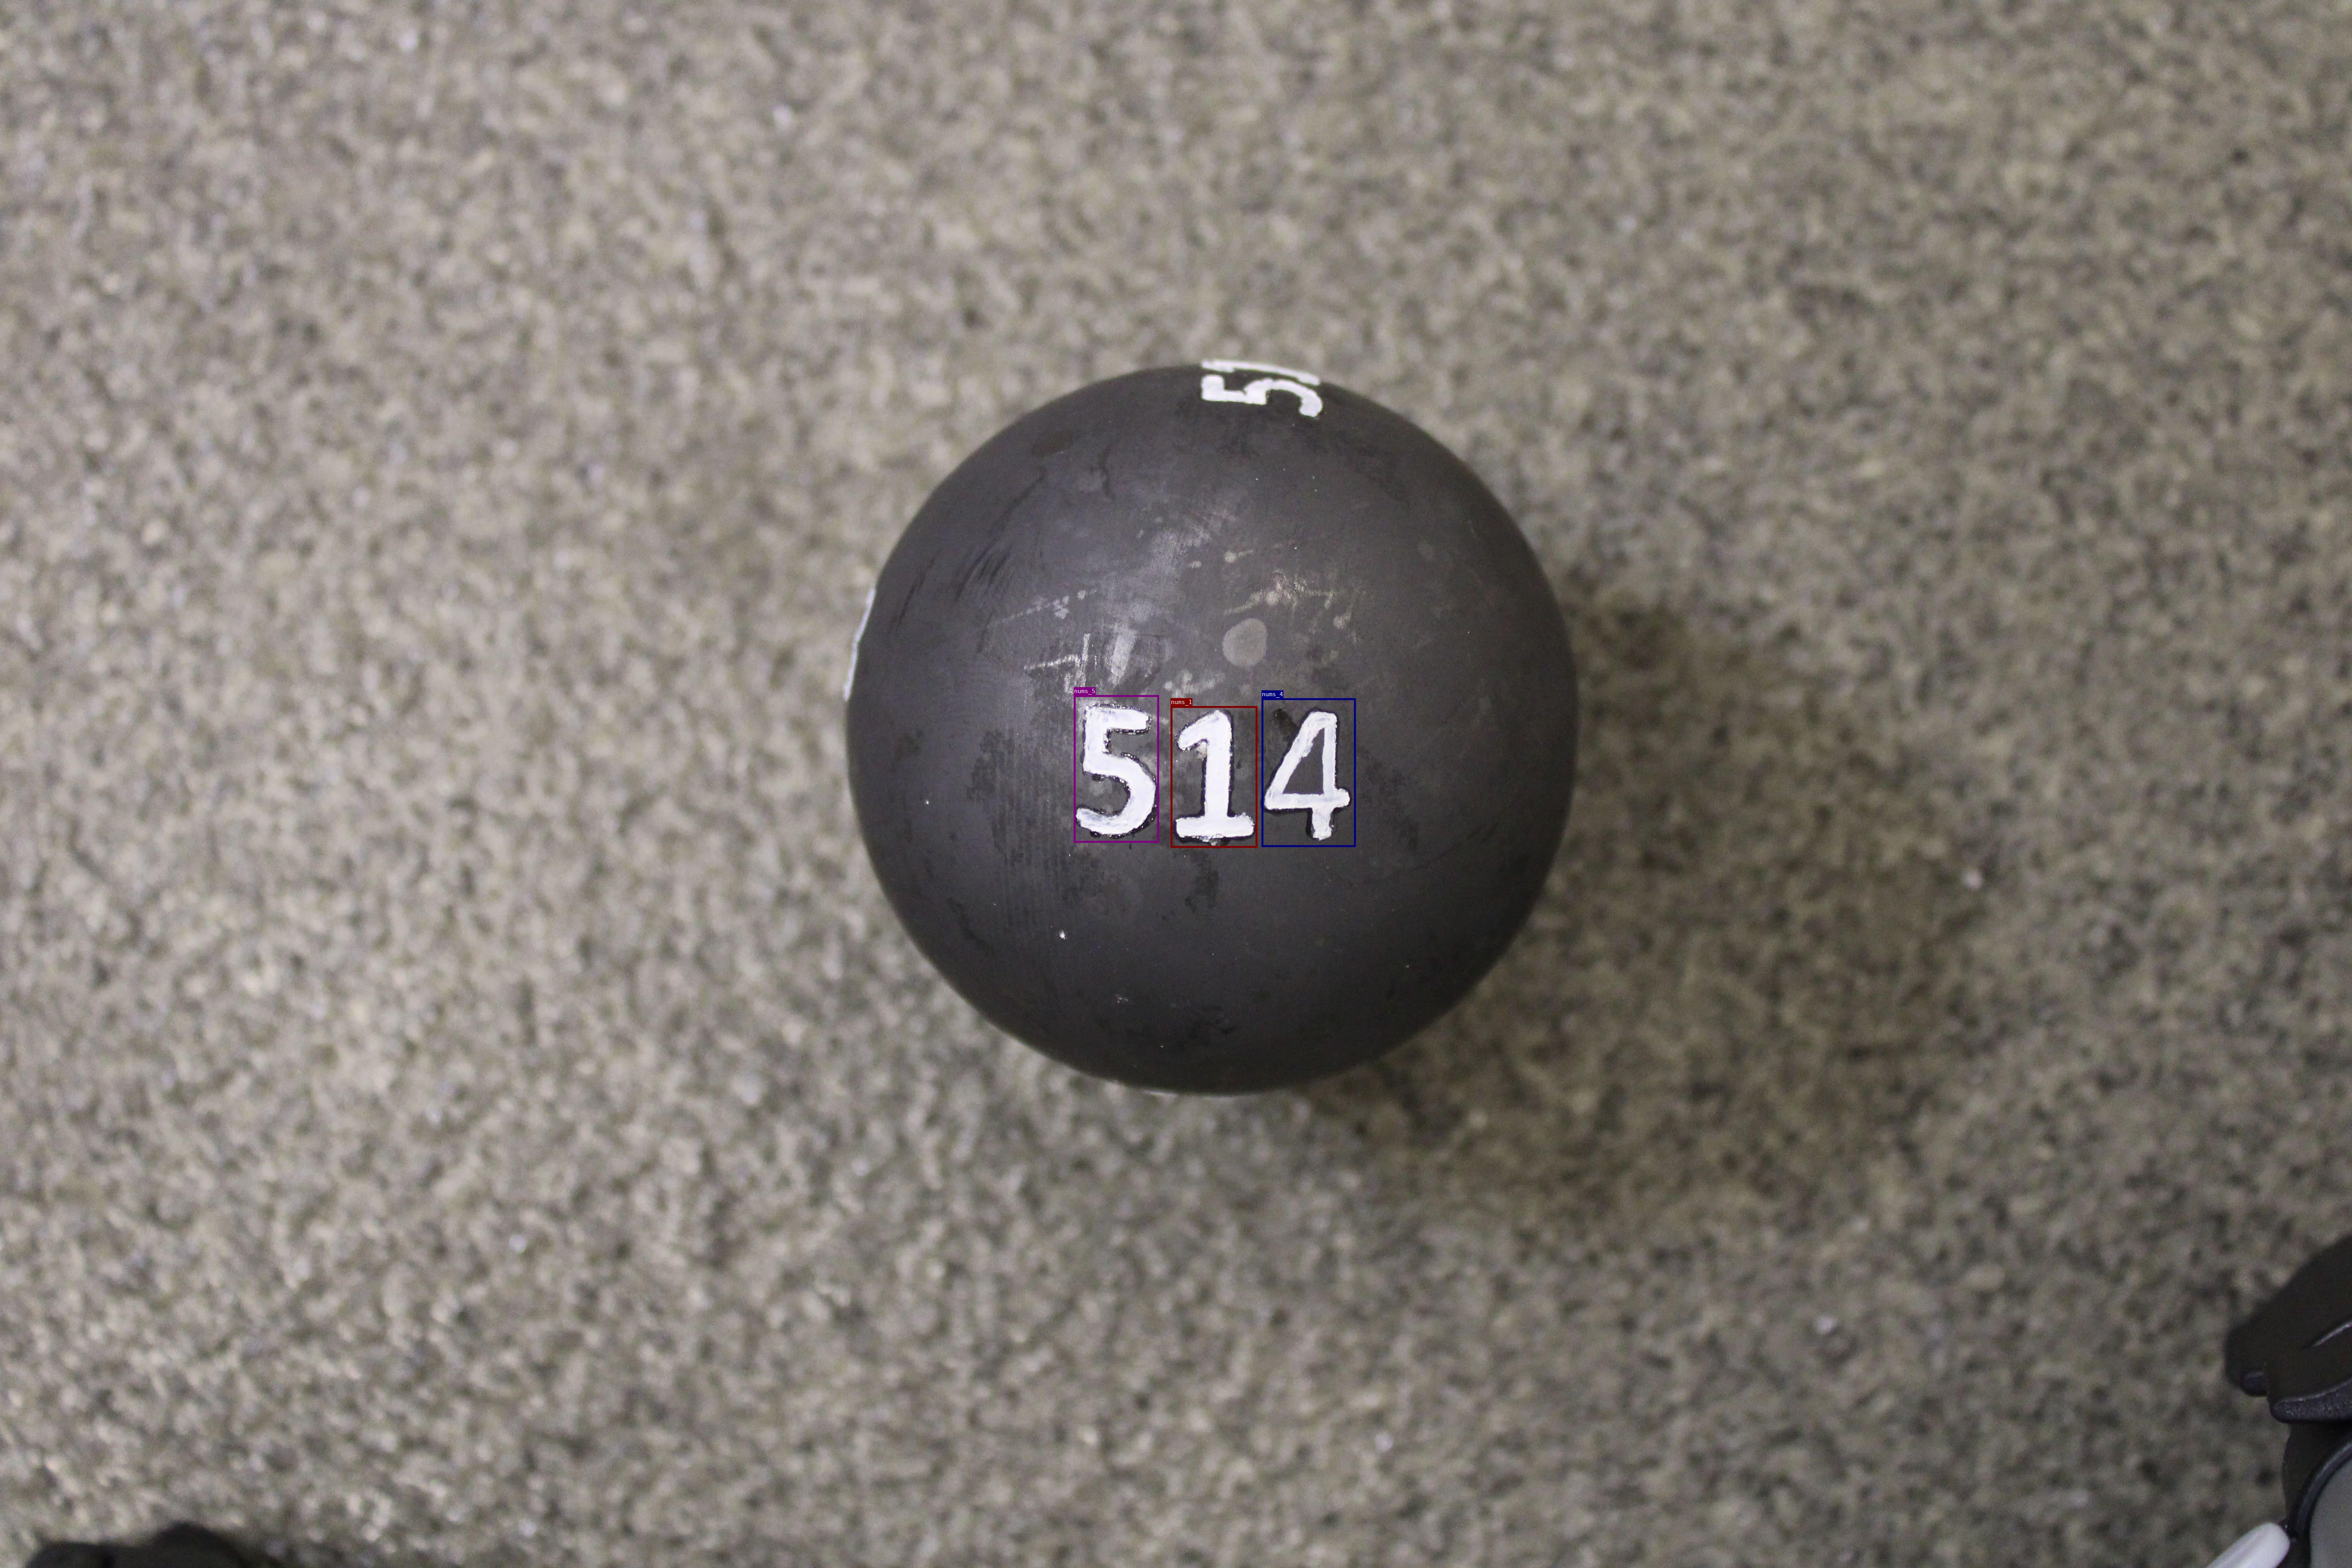nums_1: (1171, 705, 1257, 847)
nums_4: (1262, 698, 1356, 847)
nums_5: (1074, 695, 1159, 842)
